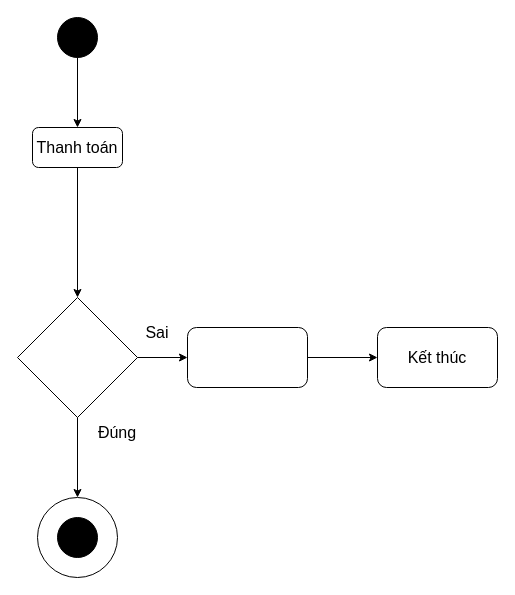
Some shapes in this 515 by 595 pixel diagram are drawn without their labels. Here are the shapes that lost their labels. From the top down, the centre of each, then its label:
[77,357]: Kiểm tra định dạng?
[247,357]: Báo lỗi
